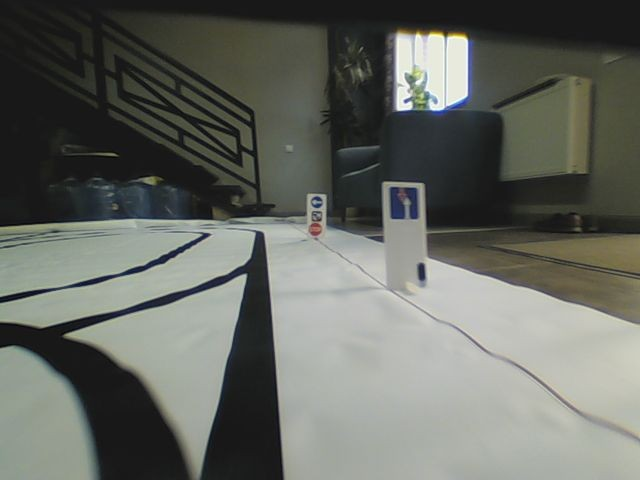priority_movement: (386, 185, 420, 221)
